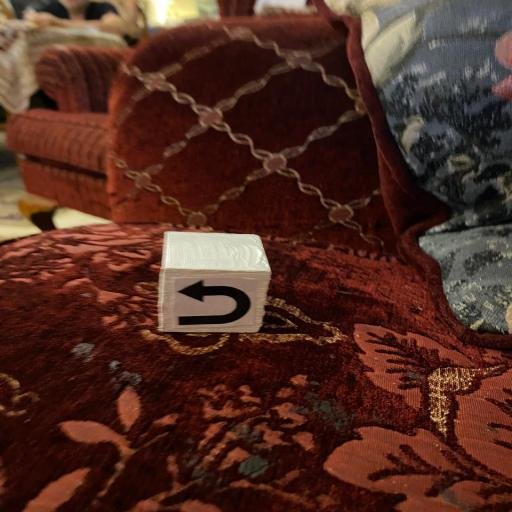Undo: (157, 231, 275, 332)
